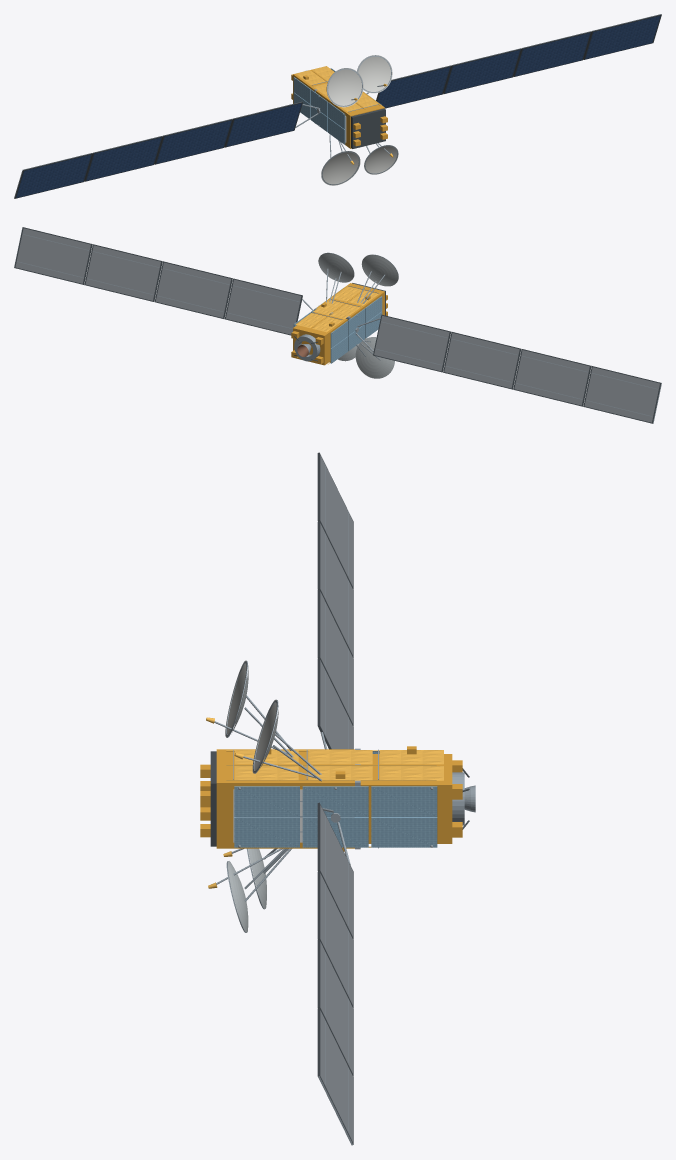
Rendered from ref-spacebus-4000c4-33453.glb.
3 views of the same model, one above another, from view 1: azimuth 30°, elevation 25°; view 2: azimuth 150°, elevation 25°; view 3: azimuth 270°, elevation 25° (orthographic). The views are drawn at different scales.
Parts seen in each view (by area): view 1: Solar cell panel (×8), Solar panel frame (×7), SGDC reflector 3 face, SGDC reflector 4 face, Earth-facing deck, SGDC reflector 1 face, SGDC reflector 2 face, Radiator tile bay (×2), Payload module; view 2: Rear array substrate (×8), Solar panel frame (×8), SGDC reflector 1 insulated back, Service module, SGDC reflector 3 insulated back, SGDC reflector 4 insulated back, Payload module, Launch adapter ring; view 3: Rear array substrate (×8), Radiator tile bay (×6), Payload module, Service module.
Part boxes in pixels (bbox=[...]): Solar cell panel (×8): bbox=[16, 15, 660, 197]; Solar panel frame (×7): bbox=[14, 14, 661, 198]; SGDC reflector 3 face: bbox=[327, 68, 363, 107]; SGDC reflector 4 face: bbox=[357, 55, 392, 93]; Earth-facing deck: bbox=[351, 108, 385, 148]; SGDC reflector 1 face: bbox=[321, 151, 360, 185]; SGDC reflector 2 face: bbox=[364, 145, 398, 174]; Radiator tile bay (×2): bbox=[293, 77, 345, 129]; Payload module: bbox=[316, 90, 384, 148]; Rear array substrate (×8): bbox=[15, 228, 659, 422]; Solar panel frame (×8): bbox=[14, 227, 661, 423]; SGDC reflector 1 insulated back: bbox=[355, 337, 394, 378]; Service module: bbox=[293, 312, 347, 365]; SGDC reflector 3 insulated back: bbox=[361, 255, 398, 286]; SGDC reflector 4 insulated back: bbox=[318, 253, 354, 282]; Payload module: bbox=[316, 283, 384, 318]; Launch adapter ring: bbox=[294, 334, 320, 361]; Rear array substrate (×8): bbox=[320, 455, 352, 1141]; Radiator tile bay (×6): bbox=[234, 786, 437, 847]; Payload module: bbox=[216, 749, 354, 848]; Service module: bbox=[360, 754, 452, 843].
Size of the model in its own units: 37 by 6.63 by 6.91.
11 materials, 2 textured.
